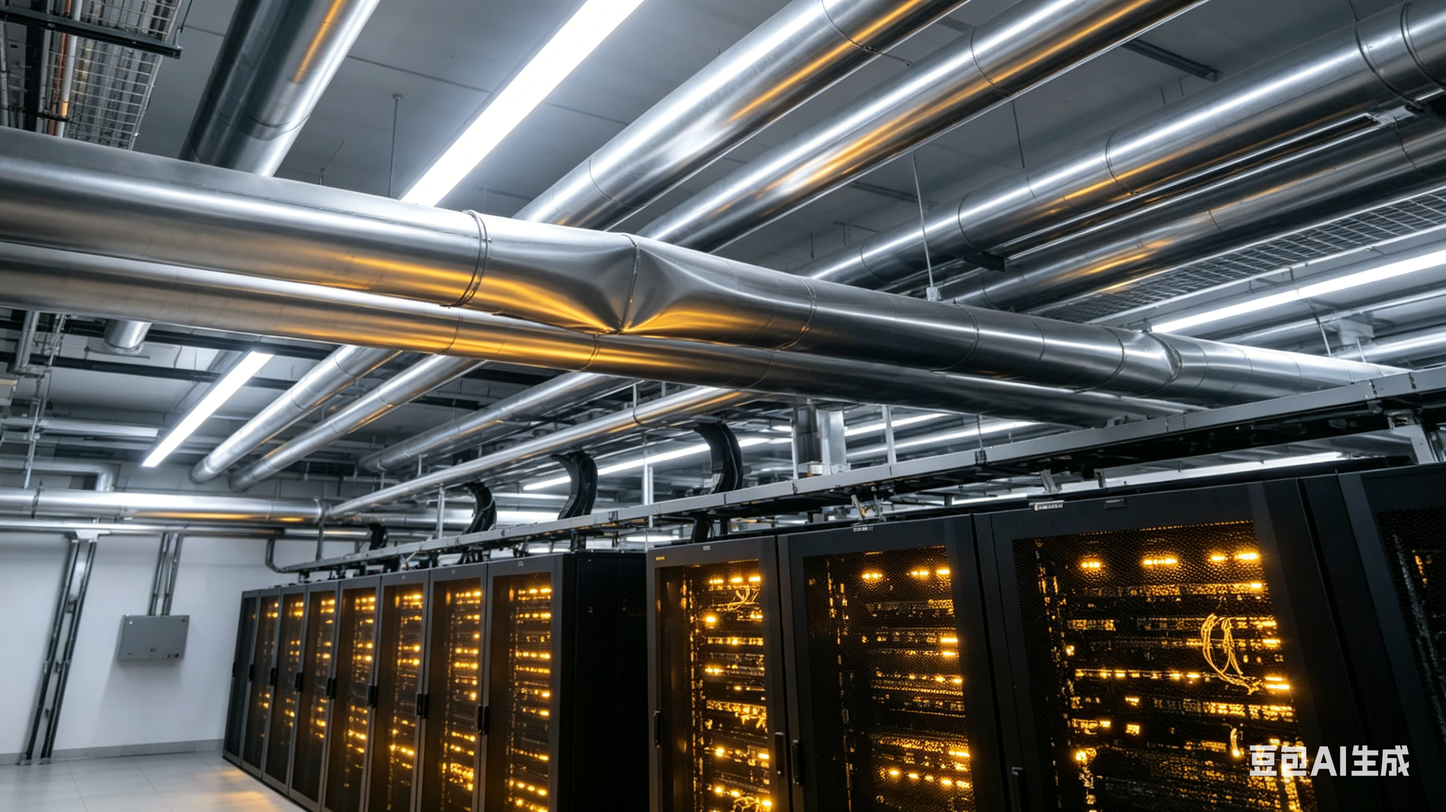Leakage: (560, 221, 711, 341)
